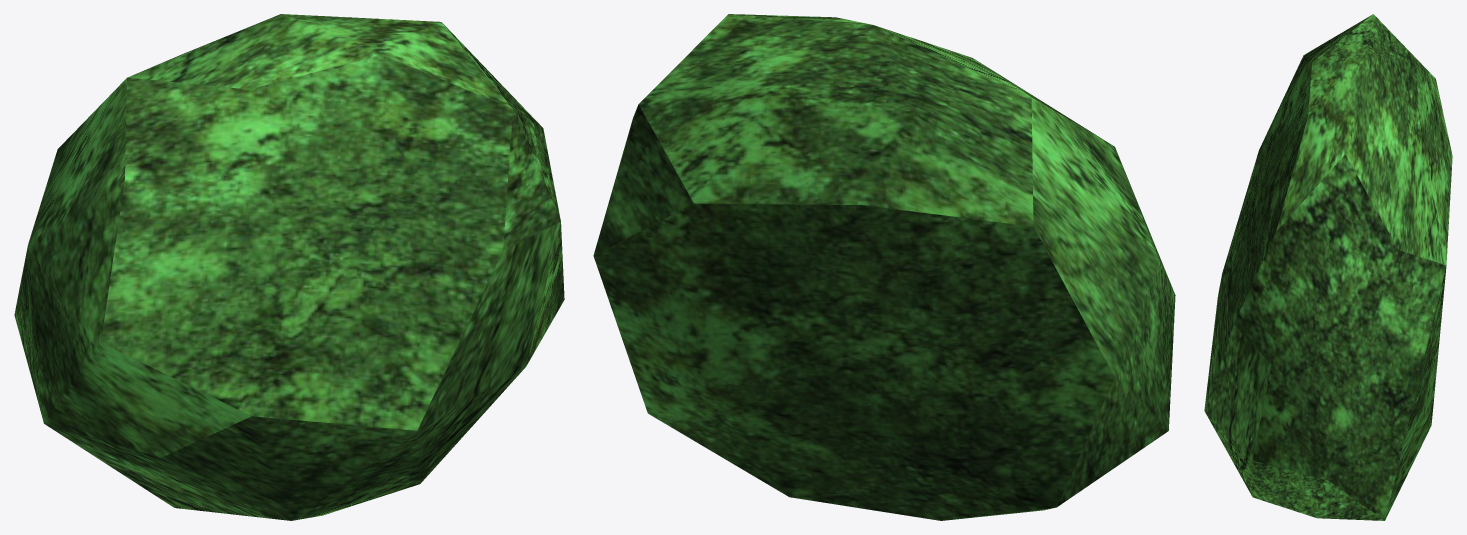
File: Roca04.fbx
3 views of the same model, side by side, from view 1: azimuth 30°, elevation 25°; view 2: azimuth 150°, elevation 25°; view 3: azimuth 270°, elevation 25° (orthographic). The views are drawn at different scales.
Visible parts, largest first — view 1: Icosphere.001; view 2: Icosphere.001; view 3: Icosphere.001.
Part boxes in pixels (<box>): Icosphere.001: <box>14,14,564,520</box>; Icosphere.001: <box>593,14,1175,520</box>; Icosphere.001: <box>1204,14,1452,520</box>.
Bounding box in the file's own units: 2.83 × 2.49 × 1.27.
